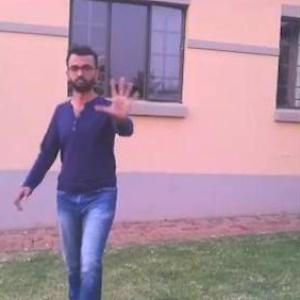follow_hand: (92, 71, 144, 122)
